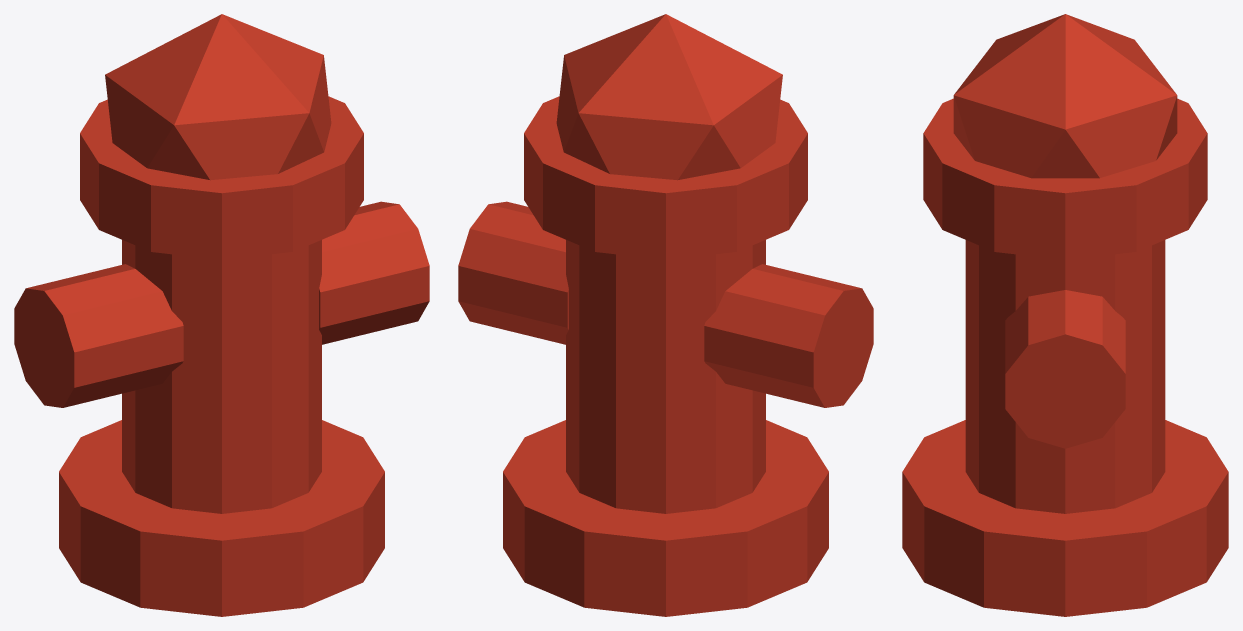
The model's file is hydrant_city.glb.
3 views of the same model, side by side, from view 1: azimuth 30°, elevation 25°; view 2: azimuth 150°, elevation 25°; view 3: azimuth 270°, elevation 25° (orthographic).
Visible parts, largest first — view 1: Prop_Hydrant_City_Red; view 2: Prop_Hydrant_City_Red; view 3: Prop_Hydrant_City_Red.
Boxes of the visible parts, x1,y1,x2,y2 form: Prop_Hydrant_City_Red: (14,14,429,616); Prop_Hydrant_City_Red: (458,14,873,616); Prop_Hydrant_City_Red: (902,14,1228,616).
Size of the model in its own units: 0.78 by 1.12 by 0.62.
